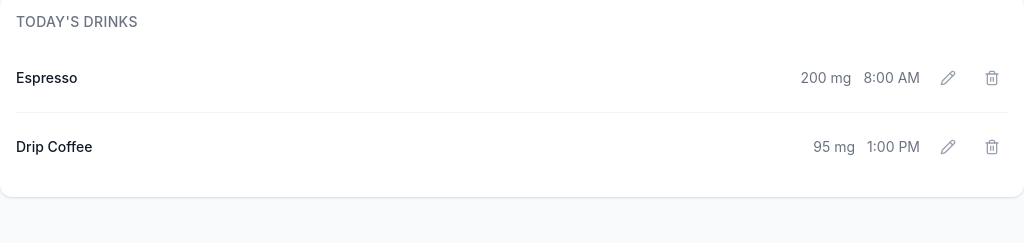
Test: DrinkHistory › edit drink › starting edit clears pending delete confirm
The image size is (1024, 243).
// Start delete confirm on Espresso
Click the button named "delete espresso" at (992, 78), box [976, 56, 1008, 100]
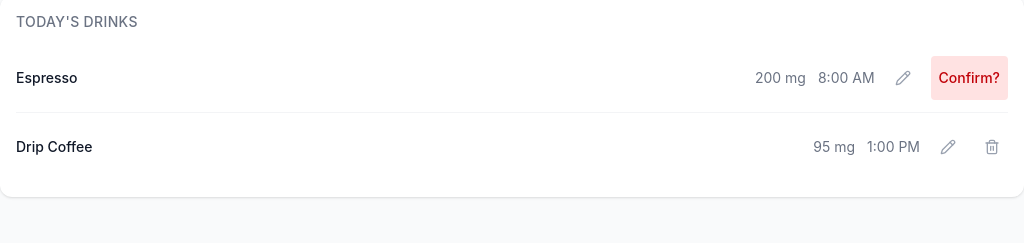
Now the button "Confirm?" is shown, box [931, 56, 1008, 100]
// Start edit on Espresso -- should clear confirm
Click the button named "edit espresso" at (903, 78), box [887, 56, 919, 100]
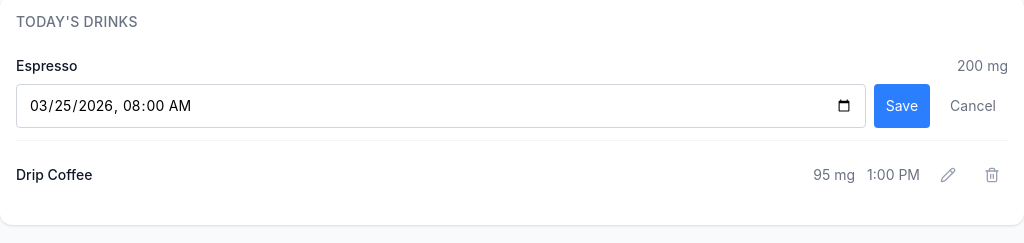
Now the button "Confirm?" is gone
Now the button "Save" is shown, box [874, 84, 930, 128]
